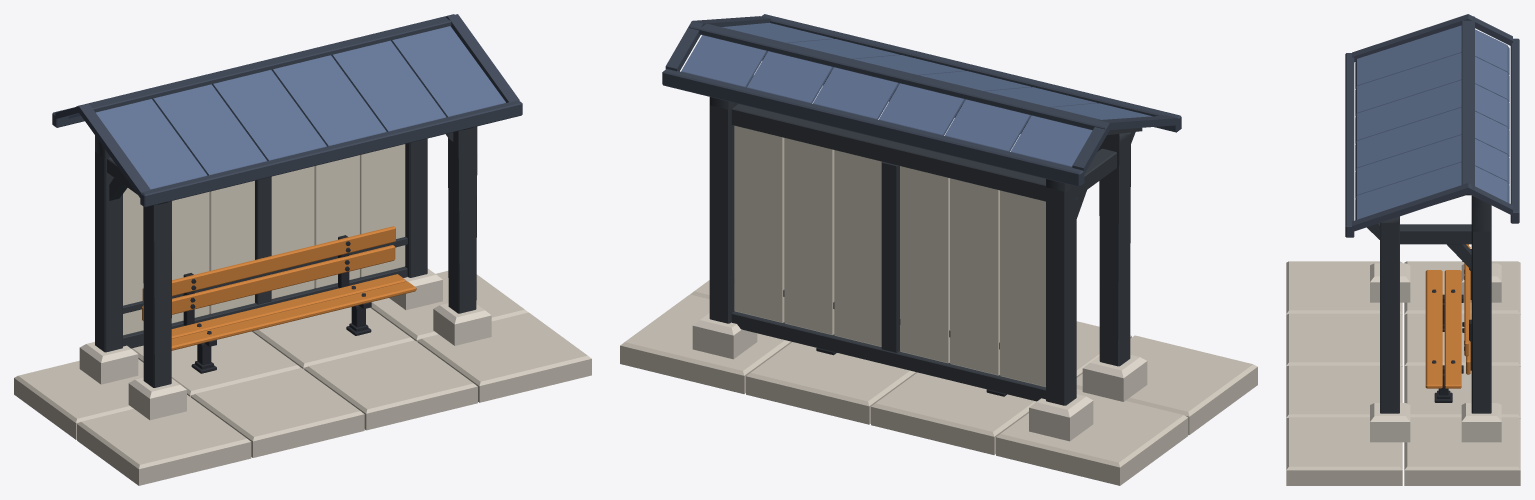
The model's file is bus stop.fbx.
The picture shows the model from 3 angles, left to right: view 1: azimuth 30°, elevation 25°; view 2: azimuth 150°, elevation 25°; view 3: azimuth 270°, elevation 25°; orthographic projection. The views are drawn at different scales.
Visible parts, largest first — view 1: Platform; view 2: Platform; view 3: Platform.
Part boxes in pixels (x1,y1,x2,y2): Platform: (14, 14, 591, 485); Platform: (620, 14, 1257, 485); Platform: (1286, 14, 1520, 485).
Bounding box in the file's own units: 440 × 278 × 210.
